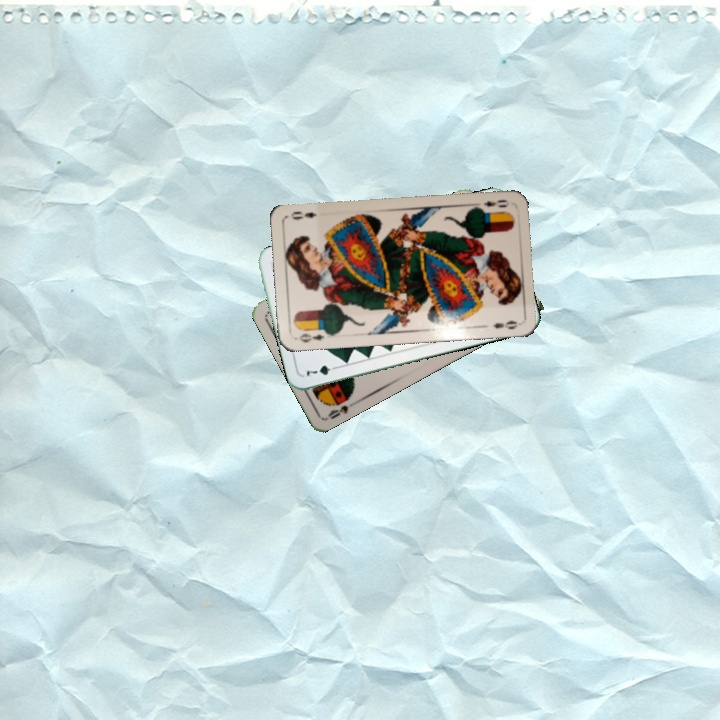EO: (292, 329, 327, 345), (480, 195, 512, 210)
G7: (302, 361, 341, 379)
SO: (324, 389, 362, 422)
